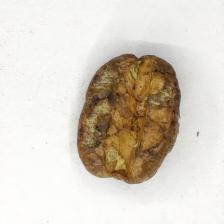NG: (79, 54, 171, 174)
